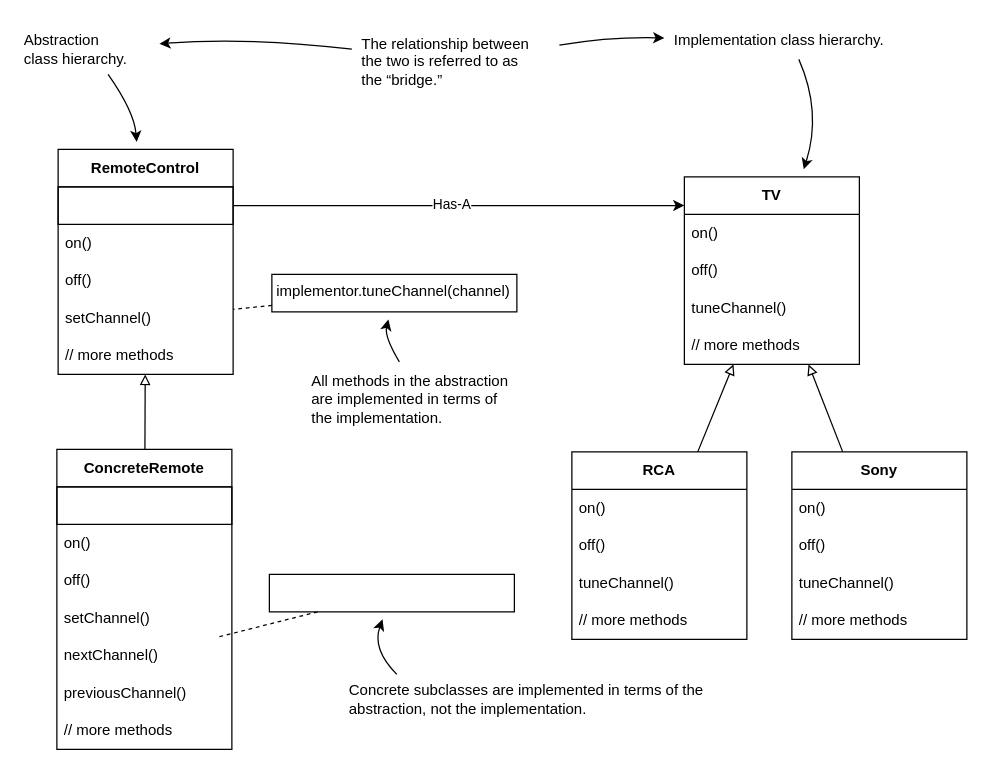
The diagram is 989 pixels wide and 771 high, and some of its shapes have lost their labels. The shapes that lost their labels are listed below. From the top down, each one's centre as x and y in pixels, then its label:
At point 145,205: "implementor".
At point 144,505: "currentStation".
At point 391,592: "setChannel(currentStation + 1);".
